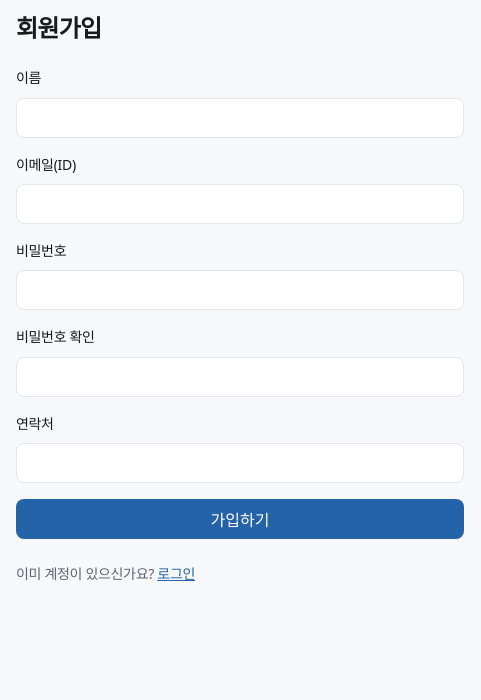
it: 회원가입 폼 클라이언트 검증 › 빈 값으로 제출하면 다섯 칸 모두 안내가 나오고 요청을 보내지 않는다
This screenshot has width=481, height=700.
Click the button "가입하기": click(240, 519) [16, 499, 464, 539]
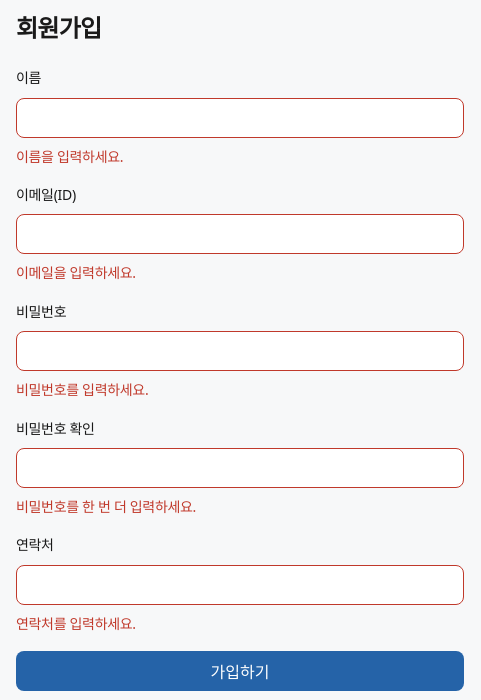
Expected: the text "이름을 입력하세요." is shown, [16, 147, 123, 166]
Expected: the text "이메일을 입력하세요." is shown, [16, 263, 136, 282]
Expected: the text "비밀번호를 입력하세요." is shown, [16, 380, 148, 399]
